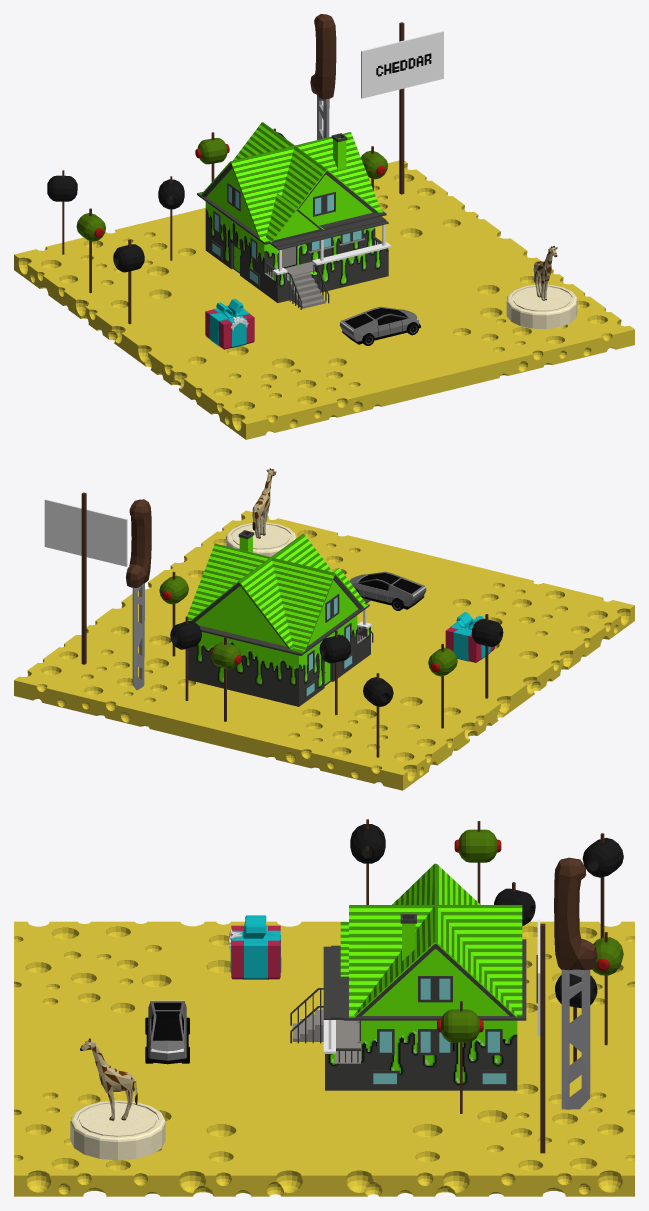
3 views of the same model, one above another, from view 1: azimuth 30°, elevation 25°; view 2: azimuth 150°, elevation 25°; view 3: azimuth 270°, elevation 25° (orthographic). The views are drawn at different scales.
Visible parts, largest first — view 1: Cube.022, Cube.754, Cube.023, Cylinder.016, Cube.024, VEHICLES_CYBERTRUCK, OBJRANDOM_GIANT_PRESENT, Sphere.017, Sphere.016, Sphere.020, Sphere.018, Sphere.022 (+2 smaller); view 2: Cube.022, Cube.754, Cube.023, Cube.024, VEHICLES_CYBERTRUCK, Cylinder.016, OBJRANDOM_GIANT_PRESENT, Sphere.017, Sphere.021, Sphere.016, Sphere.020, Sphere.022 (+3 smaller); view 3: Cube.022, Cube.754, Cube.024, Cylinder.016, OBJRANDOM_GIANT_PRESENT, VEHICLES_CYBERTRUCK, Cube.023, Sphere.016, Sphere.019, ANIMAL_JIRAFA, Sphere.018, Sphere.017 (+3 smaller).
Boxes of the visible parts, x1,y1,x2,y2 form: Cube.022: (14,160,634,439); Cube.754: (197,122,391,309); Cube.023: (361,22,443,194); Cylinder.016: (506,284,577,328); Cube.024: (310,14,336,139); VEHICLES_CYBERTRUCK: (339,306,420,345); OBJRANDOM_GIANT_PRESENT: (205,298,254,349); Sphere.017: (113,239,144,324); Sphere.016: (47,170,77,254); Sphere.020: (158,176,184,260); Sphere.018: (76,208,105,293); Sphere.022: (195,132,229,181); Cube.022: (14,510,634,790); Cube.754: (184,530,373,706); Cube.023: (44,492,127,664); Cube.024: (126,499,151,690); VEHICLES_CYBERTRUCK: (349,571,426,610); Cylinder.016: (226,522,296,556); OBJRANDOM_GIANT_PRESENT: (445,612,494,662); Sphere.017: (471,614,503,698); Sphere.021: (170,616,201,700); Sphere.016: (363,673,393,757); Sphere.020: (319,630,350,714); Sphere.022: (210,637,241,721); Cube.022: (14,921,634,1196); Cube.754: (290,863,526,1090); Cube.024: (554,857,597,1109); Cylinder.016: (70,1100,165,1160); OBJRANDOM_GIANT_PRESENT: (229,915,281,979); VEHICLES_CYBERTRUCK: (145,1000,189,1064); Cube.023: (536,919,545,1153); Sphere.016: (582,833,623,937); Sphere.019: (437,1001,483,1113); ANIMAL_JIRAFA: (80,1038,137,1120); Sphere.018: (454,821,501,903); Sphere.017: (350,819,385,904).
Size of the model in its own units: 3917 by 2010 by 4000.
34 materials, 4 textured.
